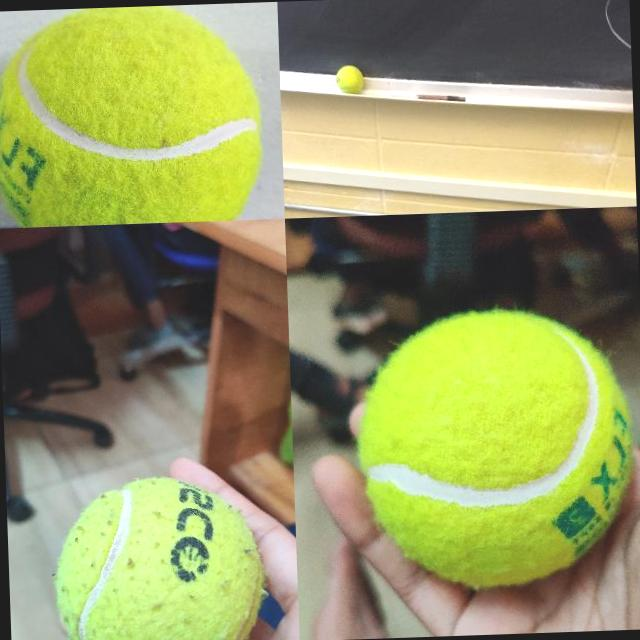Tennis Ball: (355, 306, 636, 588), (0, 2, 265, 227), (48, 471, 267, 640), (335, 64, 364, 92)
